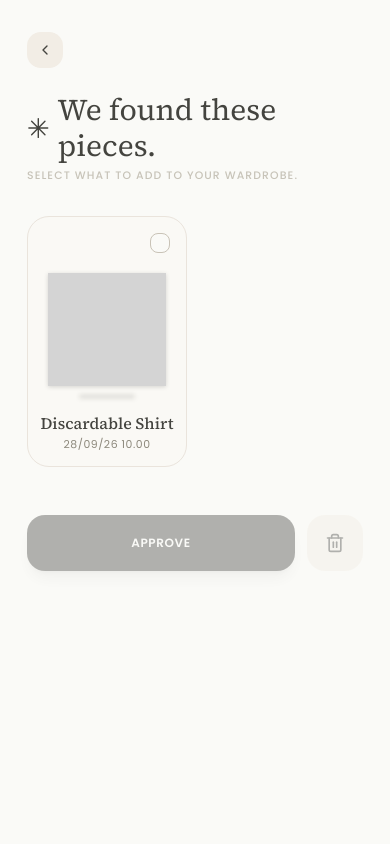
Test: ApprovalQueue (Wardrobe Approval Feature) › opens delete confirmation modal when trash button is clicked (User Story 2.10 / Figma 3.1.2)
Expected: the heading "We found these pieces." is shown, [58,89,276,166]
# Select the item
Click the checkbox with test id "approval-queue__item-checkbox": x=160, y=243 [150,233,170,253]
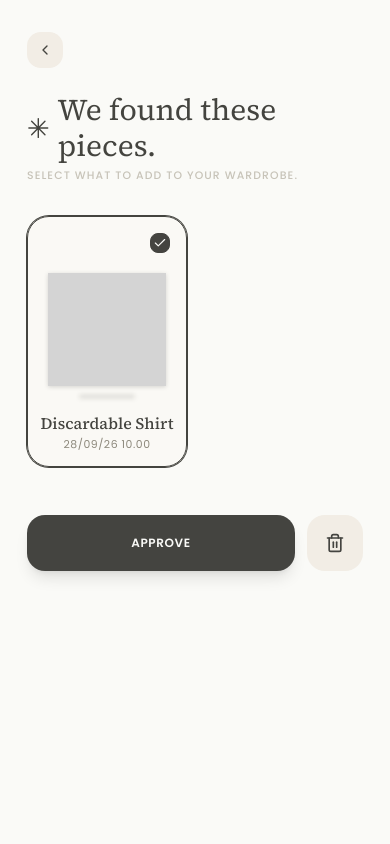
Expected: the button with test id "approval-queue__discard-button" is enabled
# Click trash button
Click the button with test id "approval-queue__discard-button": x=335, y=543 [307,515,363,571]
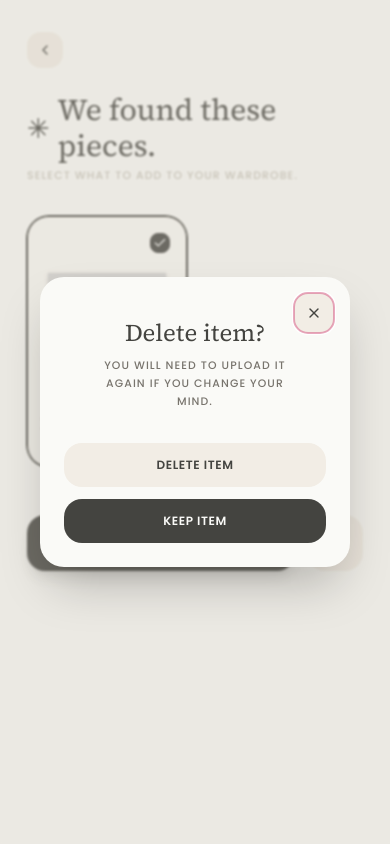
Expected: the dialog with test id "delete-confirm-dialog" is shown, [40,278,350,566]
Expected: the heading with test id "delete-confirm-dialog__title" reads "Delete item?", [125,316,265,350]
Expected: the button with test id "delete-confirm-dialog__confirm-button" is shown, [64,442,326,486]
